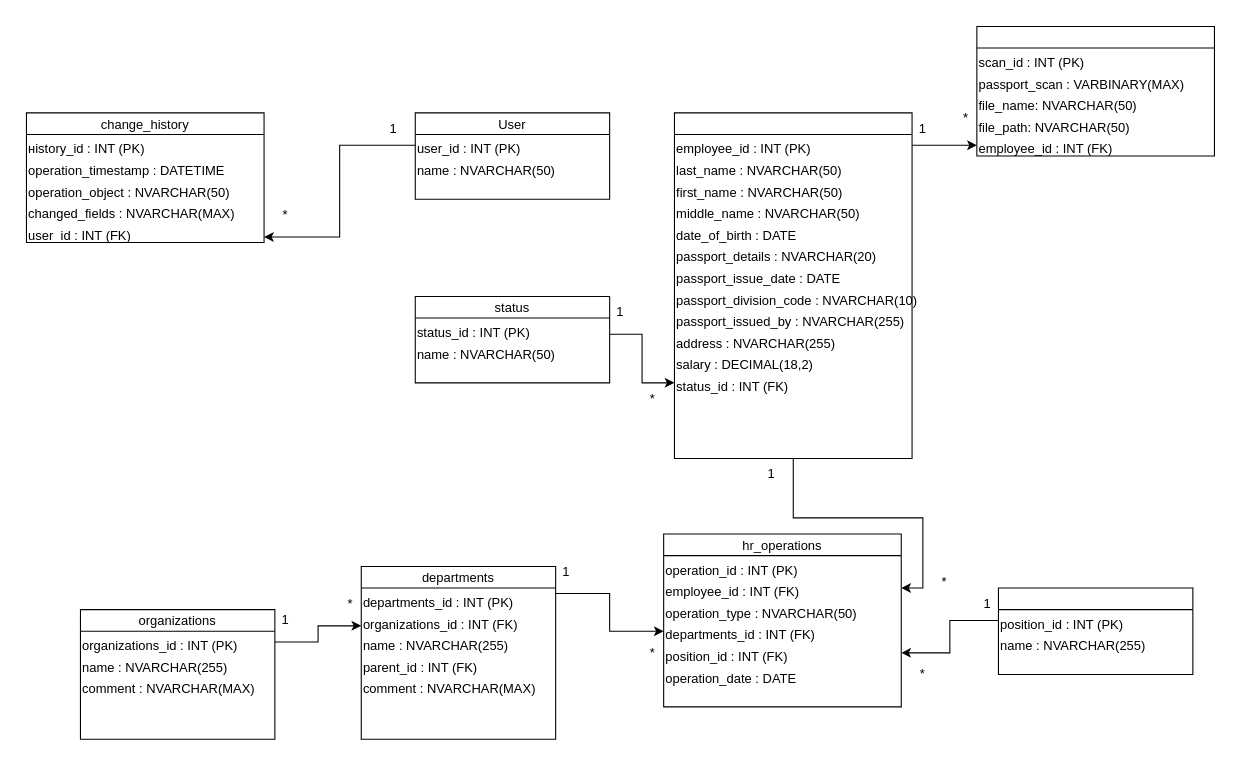
This 1233x758 diagram has some shape labels left out. The shapes that lost their labels are listed below. From the top down, each one's box as (x1, y1, x2, y2) in pixels, then its label:
(976, 25, 1214, 156): files
(673, 112, 912, 458): Employees
(997, 587, 1193, 674): positions
